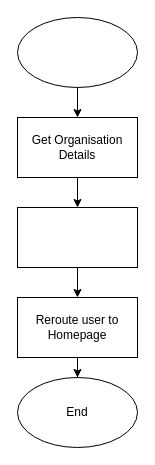
Image size: 155x465. Some labels were removed from this diagram. The centre of each missing label's shape, as x and y in pixels:
Create Organisation in DB: the point at 77,237
Start: the point at 77,52
